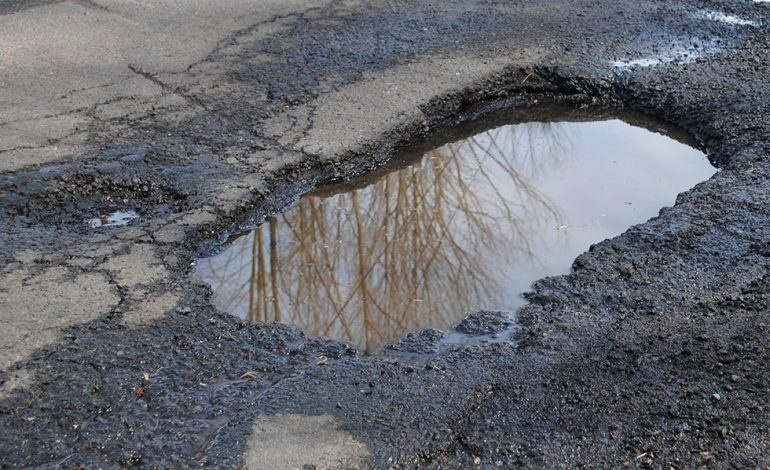pothole: (144, 4, 735, 403)
